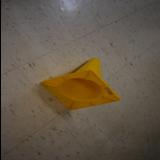cone: (40, 58, 120, 110)
